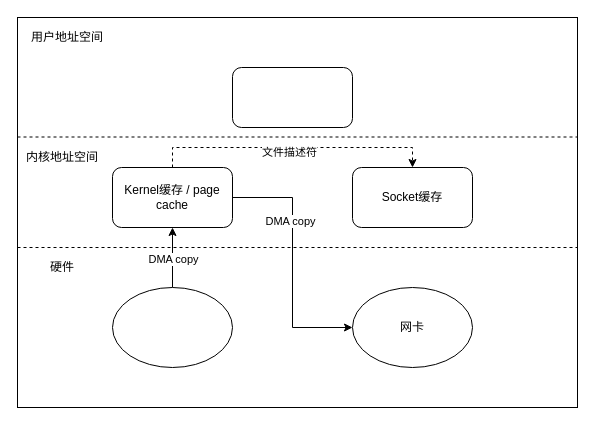
Some shapes in this 596 by 425 pixel diagram are drawn without their labels. Here are the shapes that lost their labels. From the top down, the centre of each, then its label:
point 292,97: 用户缓存 / PTE
point 172,327: 磁盘文件
